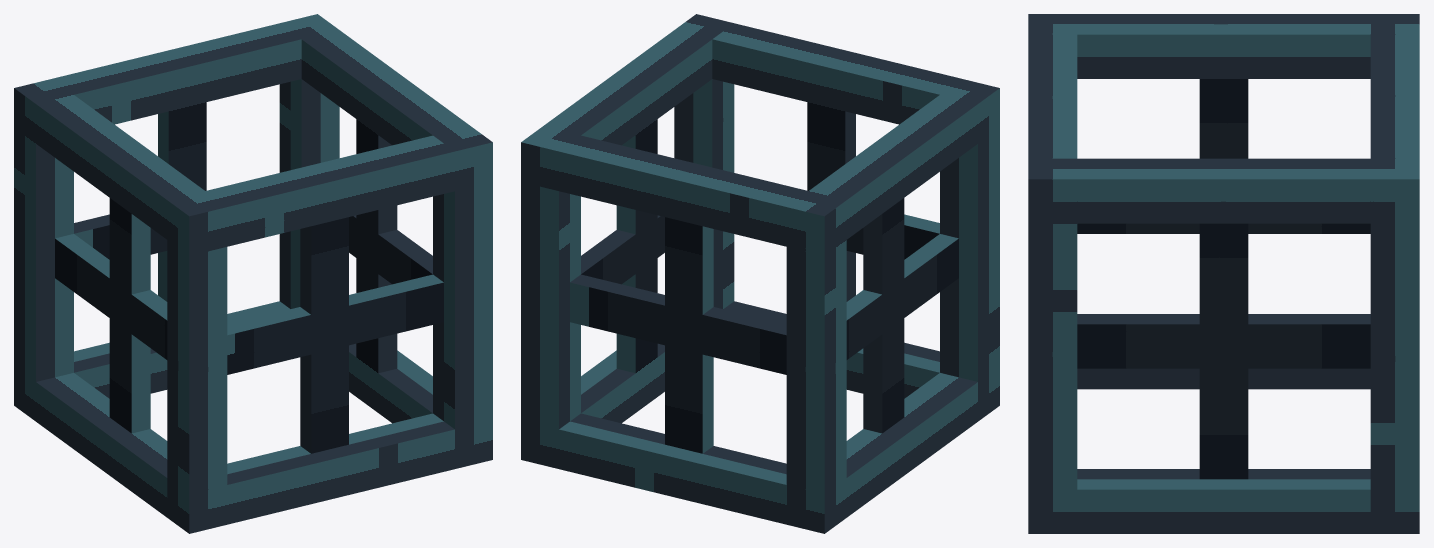
The model's file is neon_supportao.fezao.glb.
The picture shows the model from 3 angles, left to right: view 1: azimuth 30°, elevation 25°; view 2: azimuth 150°, elevation 25°; view 3: azimuth 270°, elevation 25°; orthographic projection. The views are drawn at different scales.
Visible parts, largest first — view 1: NEON_SUPPORTAO; view 2: NEON_SUPPORTAO; view 3: NEON_SUPPORTAO.
Part boxes in pixels (bbox=[...]): NEON_SUPPORTAO: bbox=[14, 14, 492, 533]; NEON_SUPPORTAO: bbox=[521, 14, 999, 533]; NEON_SUPPORTAO: bbox=[1028, 14, 1419, 533].
Bounding box in the file's own units: 1 × 1 × 1.
1 material, 1 textured.
